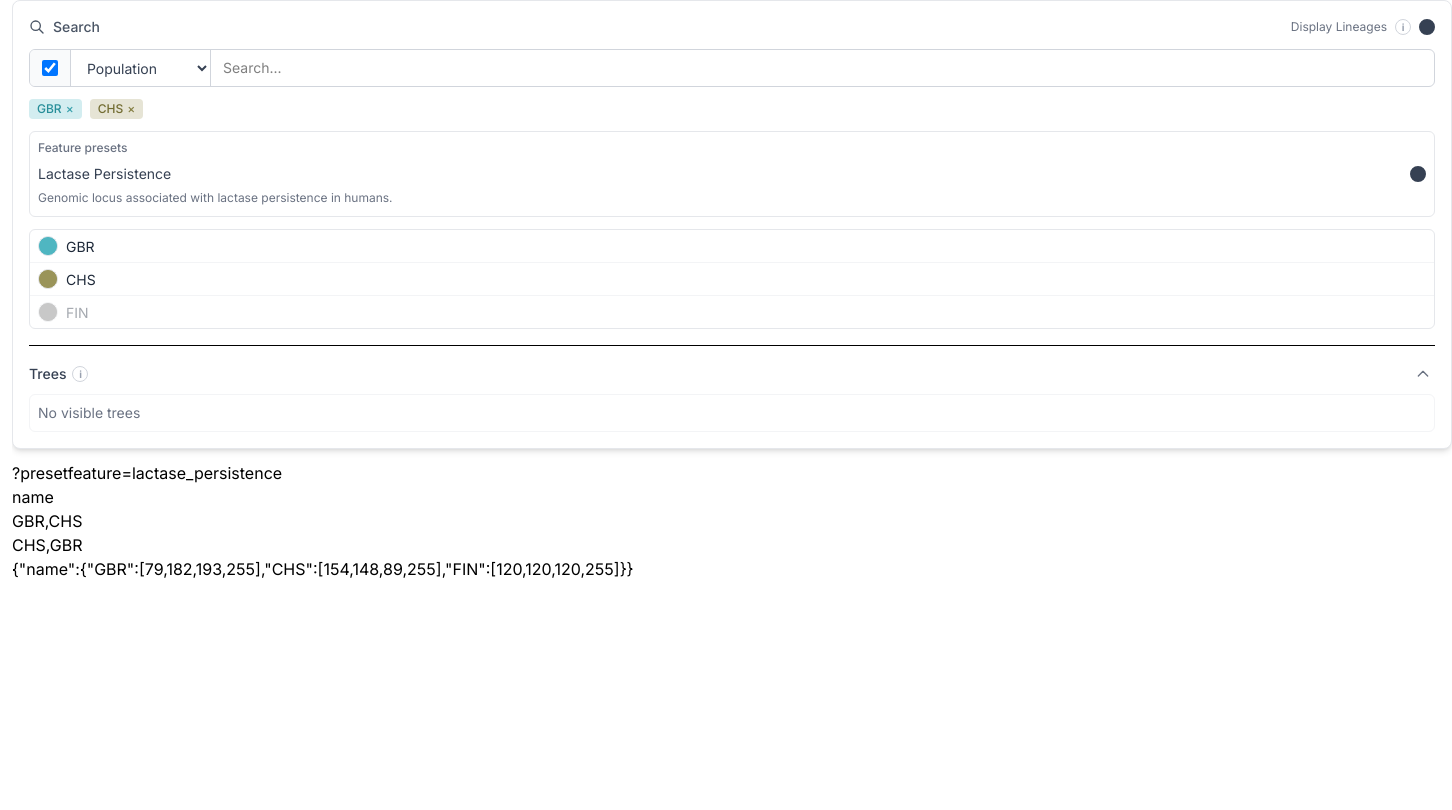
Test: InfoFilter presetFeature › disables preset, clears URL, and resets filter state
Click the button titled "Disable preset". click: (1418, 174)
box: [1410, 166, 1426, 182]
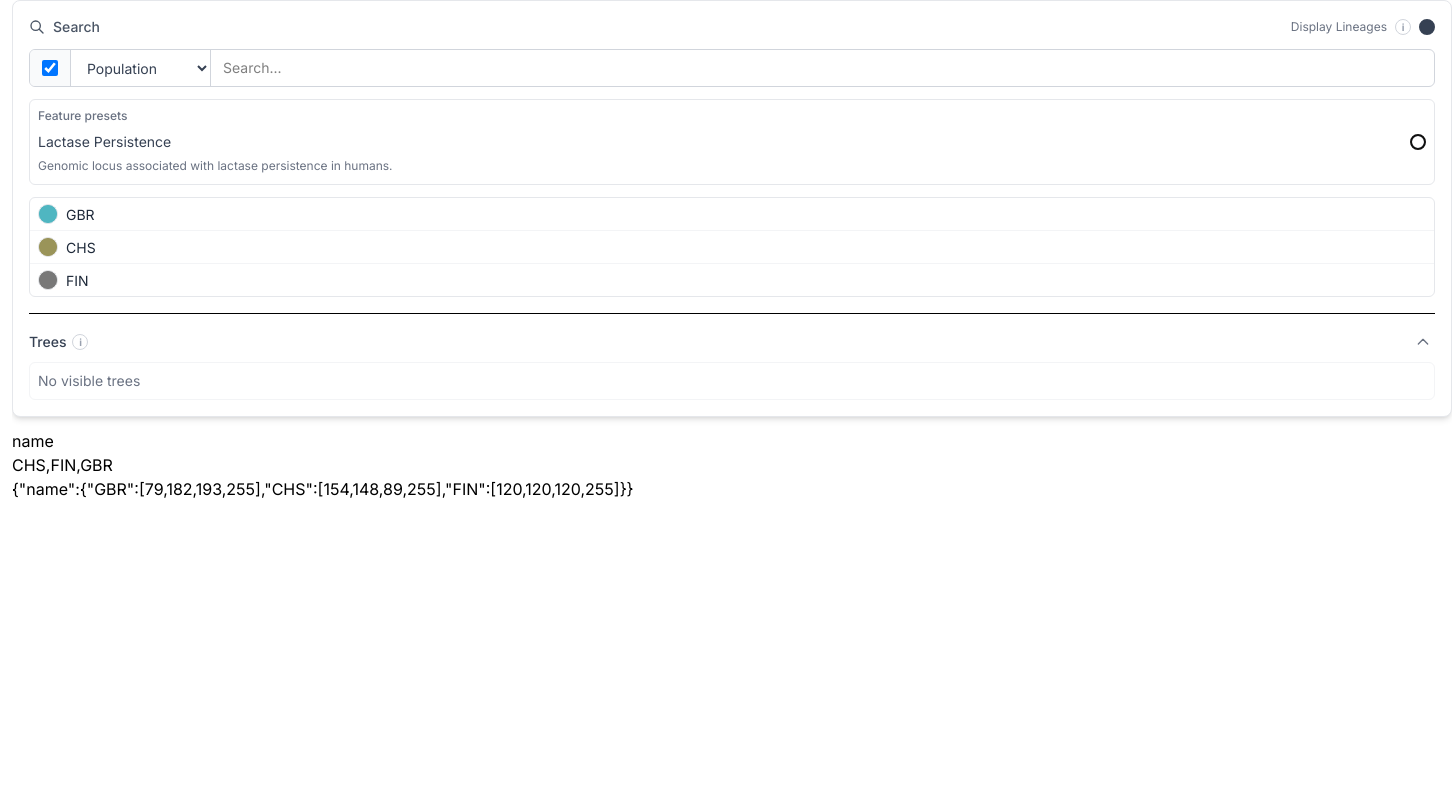
Check: the text with test id "enabledValues" reads "CHS,FIN,GBR", box [12, 455, 113, 475]
